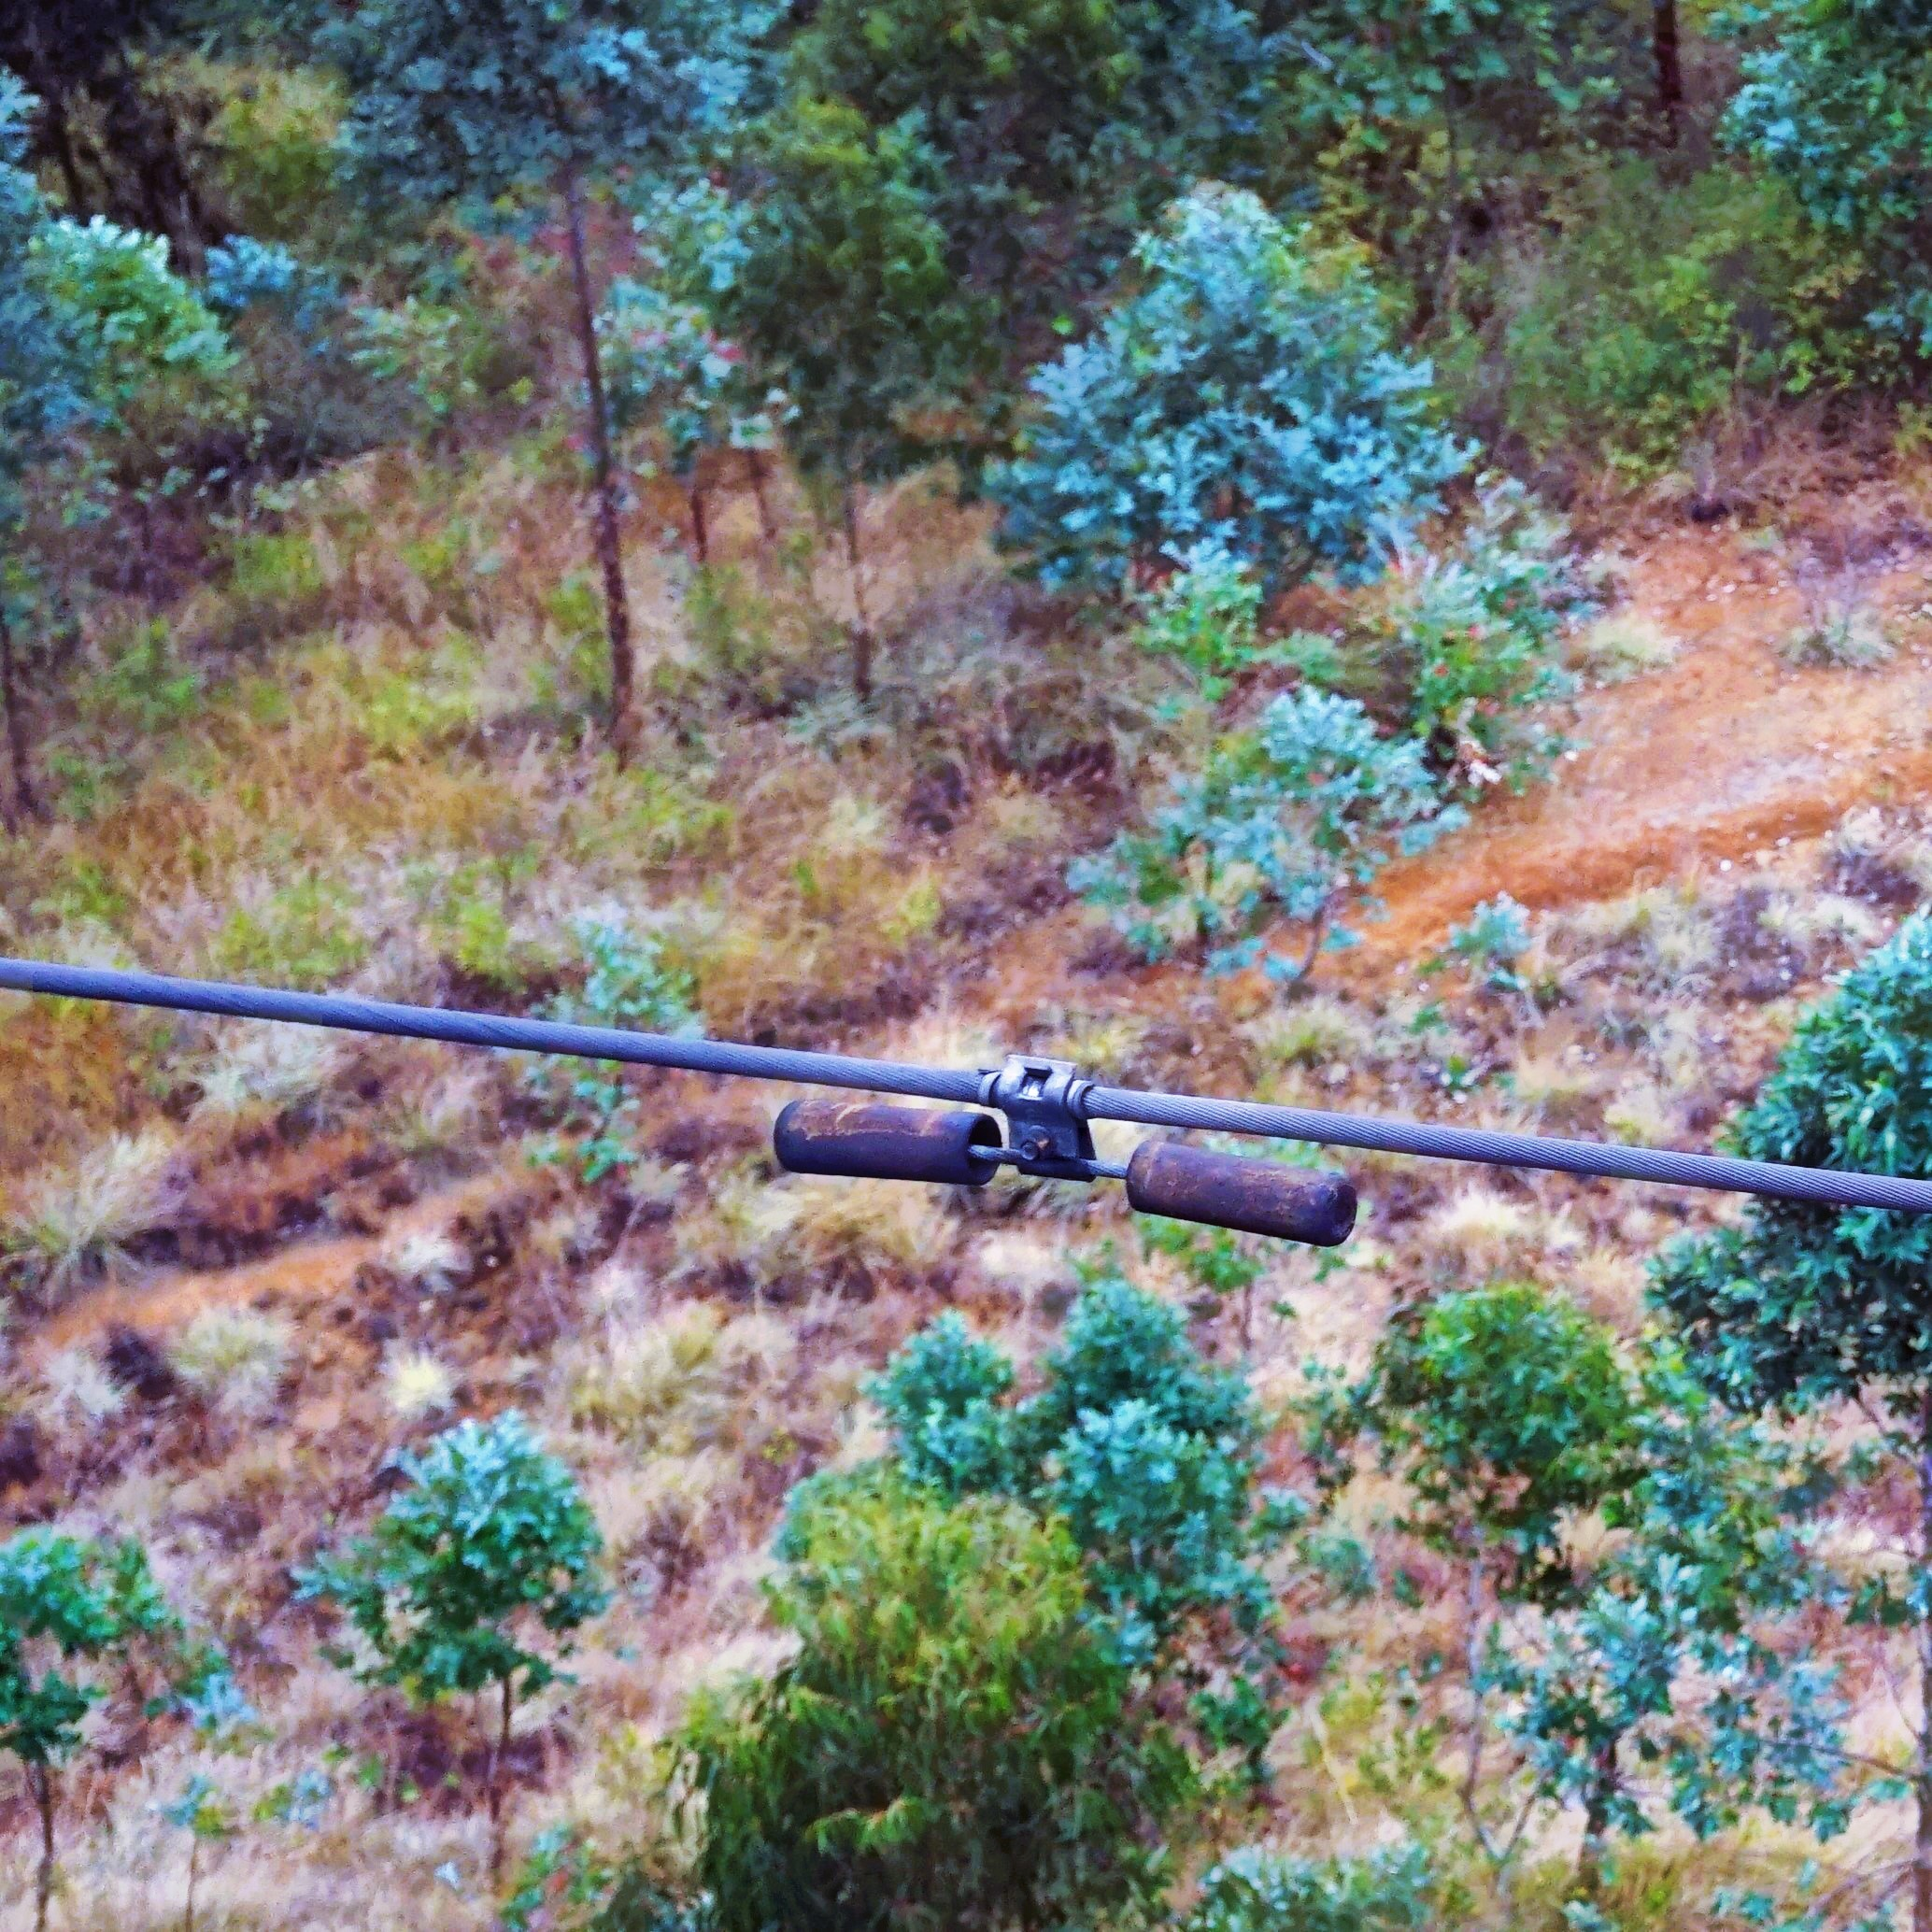Shockproof hammer: (752, 1016, 1375, 1267)
